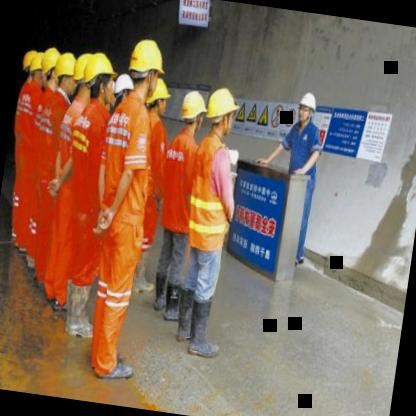helmet: (124, 35, 168, 100), (200, 81, 240, 144), (78, 49, 118, 110), (176, 88, 206, 134), (144, 76, 172, 124), (52, 51, 78, 98), (107, 70, 136, 110), (292, 86, 320, 126), (38, 40, 60, 90), (28, 51, 47, 84), (19, 46, 34, 80)
